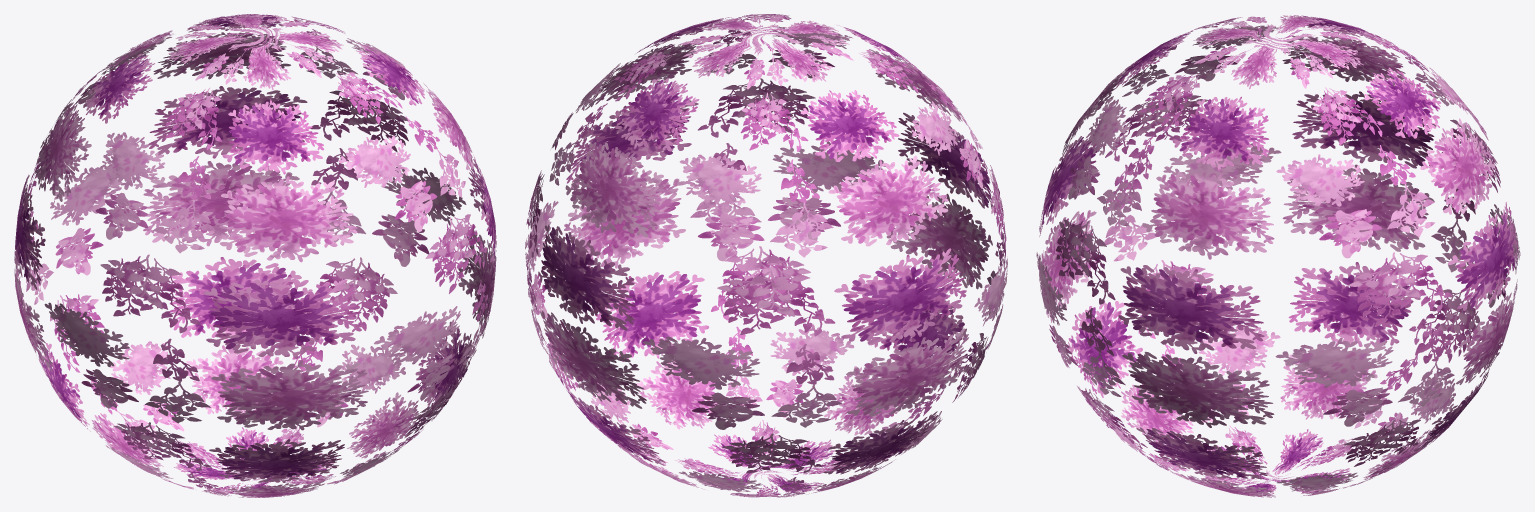
Rendered from sky.fbx.
The picture shows the model from 3 angles, left to right: view 1: azimuth 30°, elevation 25°; view 2: azimuth 150°, elevation 25°; view 3: azimuth 270°, elevation 25°; orthographic projection.
Parts seen in each view (by area): view 1: pSphere1; view 2: pSphere1; view 3: pSphere1.
Part boxes in pixels (x1,y1,x2,y2): pSphere1: [14, 14, 496, 497]; pSphere1: [525, 14, 1007, 497]; pSphere1: [1036, 15, 1520, 497].
Size of the model in its own units: 427 by 427 by 427.
Materials: 1 (1 with a texture image).
